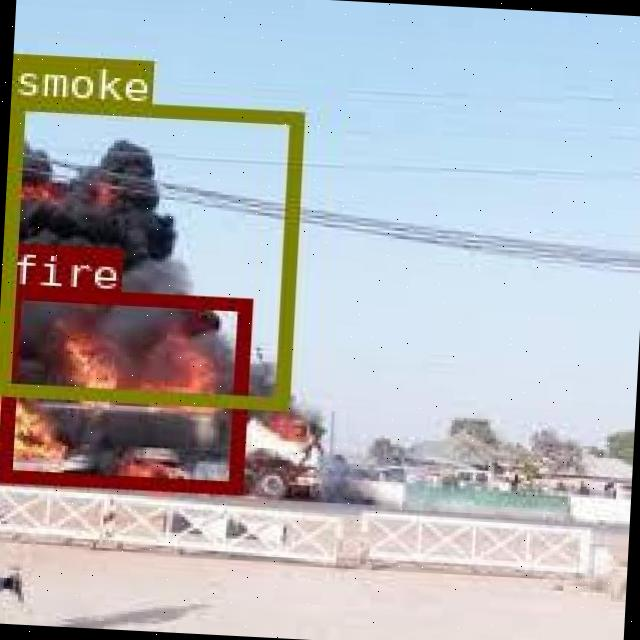fire: (0, 286, 249, 493)
smoke: (0, 93, 299, 405)
